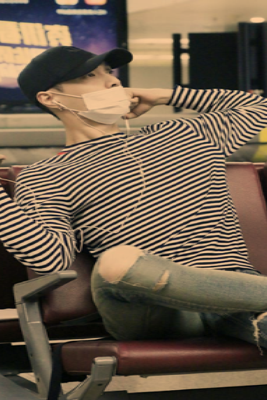mask_weared_incorrect: (58, 67, 130, 121)
